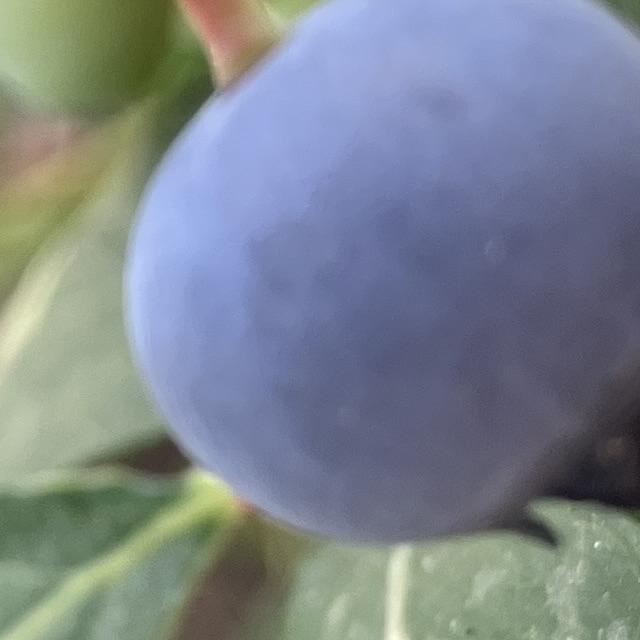Blueberries: (118, 0, 640, 547)
